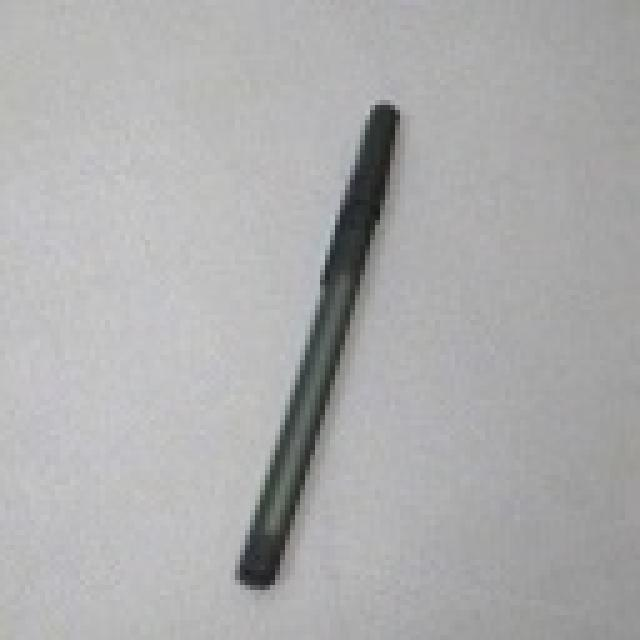pen: (236, 93, 411, 595)
